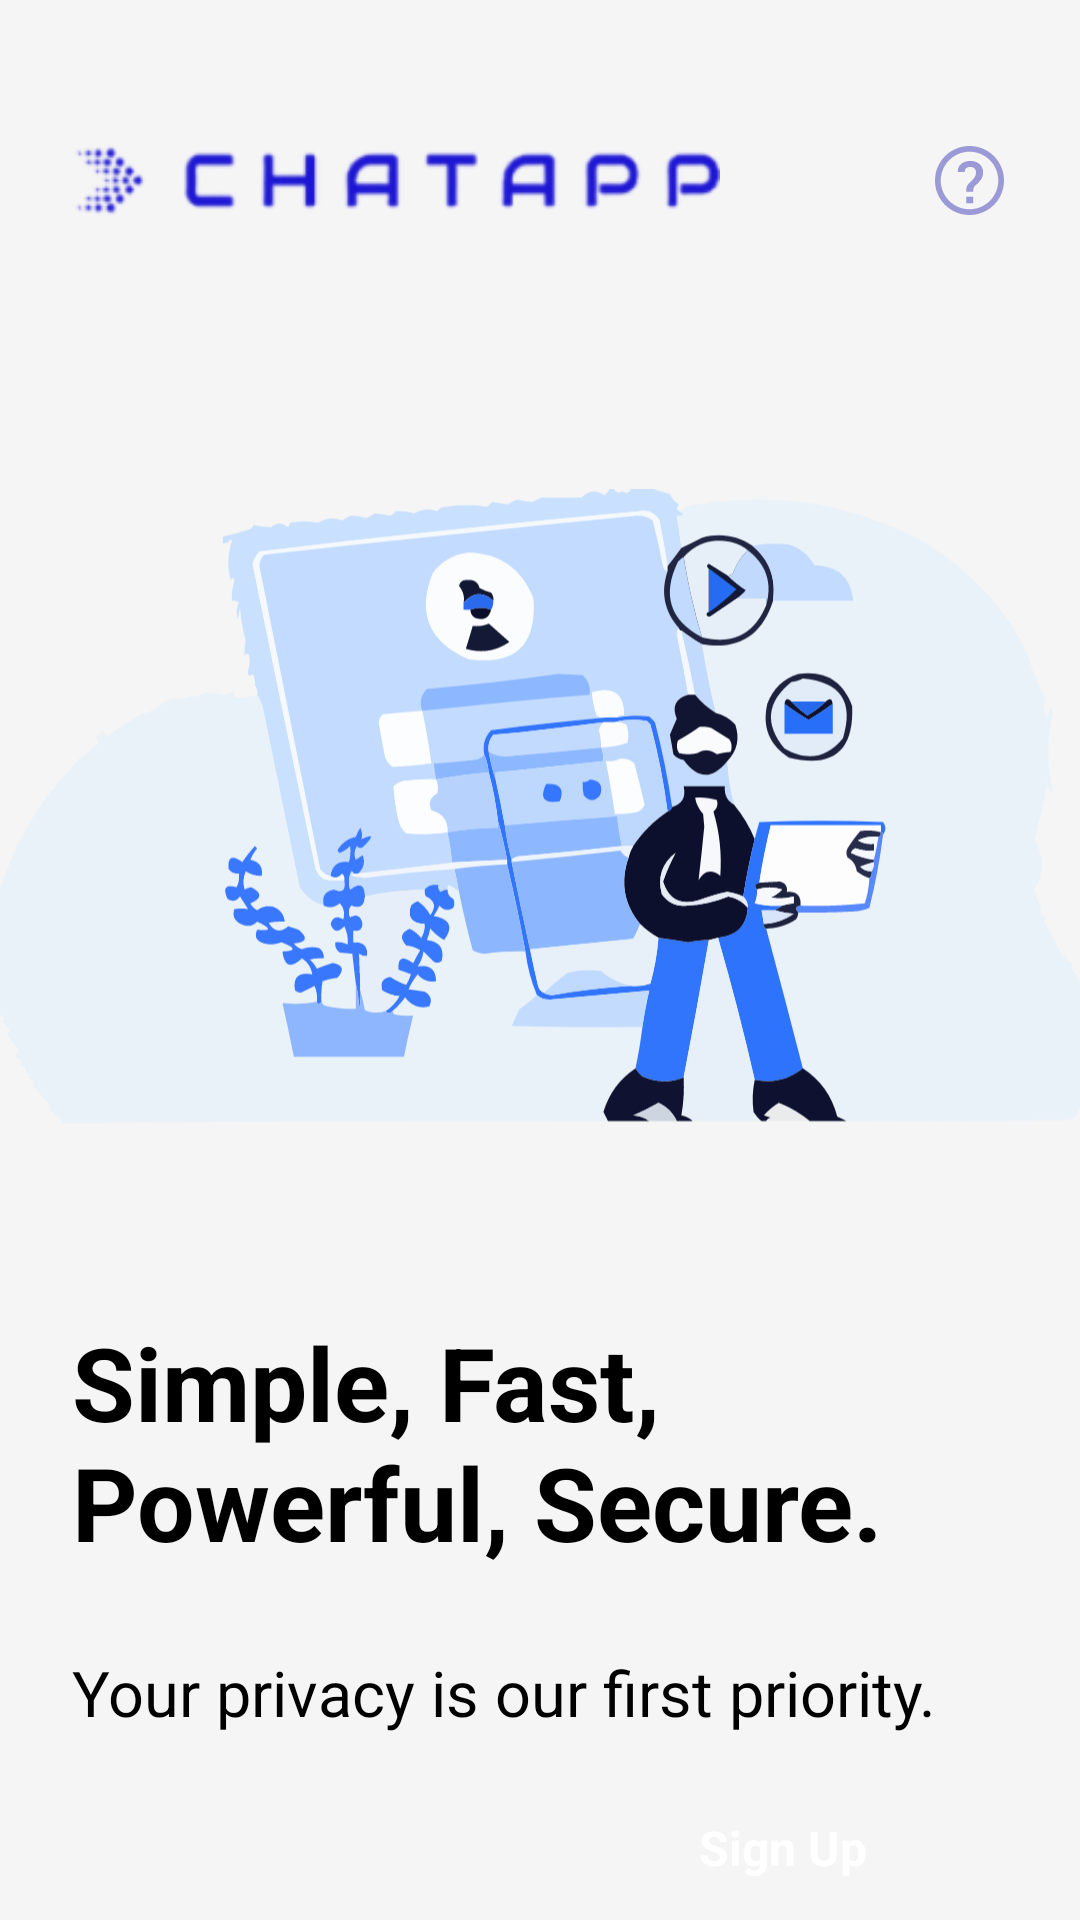

Screen size 1080 x 1920. Icon name, then its box in pixels as (x1, y1, x2, y2):
help: (935, 146, 1004, 215)
